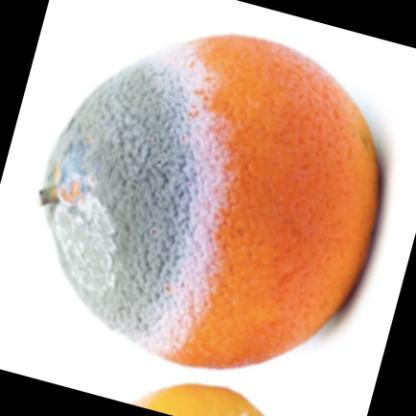rotten: (42, 35, 382, 377)
